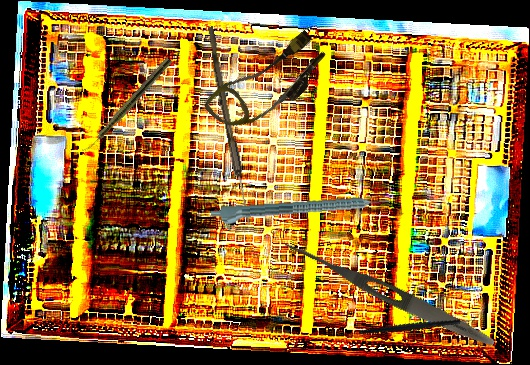Cannula: (201, 18, 335, 149)
Chopper: (358, 285, 482, 362)
Dressing Forceps: (278, 235, 499, 353)
Handpiece: (81, 55, 173, 157), (210, 194, 391, 228)
Surgical Spoon: (203, 26, 255, 226)
